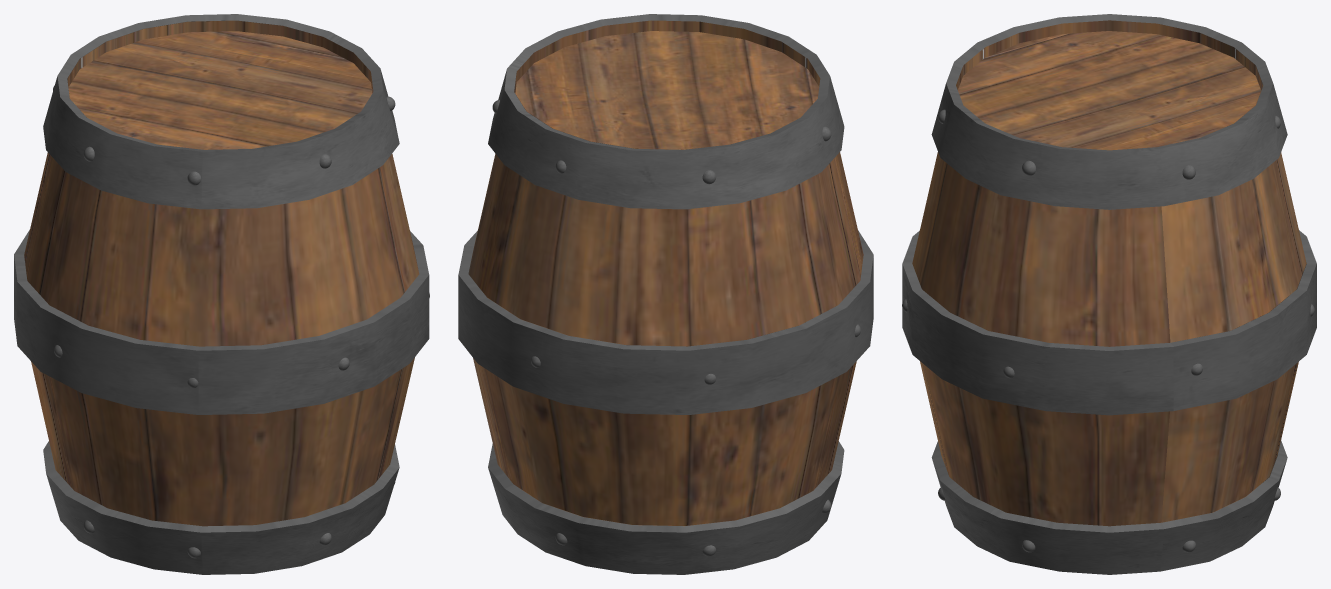
Rendered from barril.obj.
3 renders of one model, left to right at view 1: azimuth 30°, elevation 25°; view 2: azimuth 150°, elevation 25°; view 3: azimuth 270°, elevation 25°, orthographic.
Parts seen in each view (by area): view 1: pCylinder2; view 2: pCylinder2; view 3: pCylinder2.
Boxes of the visible parts, left/top/right/bottom form: pCylinder2: left=14, top=14, right=429, bottom=574; pCylinder2: left=458, top=14, right=873, bottom=574; pCylinder2: left=902, top=14, right=1316, bottom=574.
Bounding box in the file's own units: 0.5583 × 0.6286 × 0.5588.
Materials: 21 (21 with a texture image).
